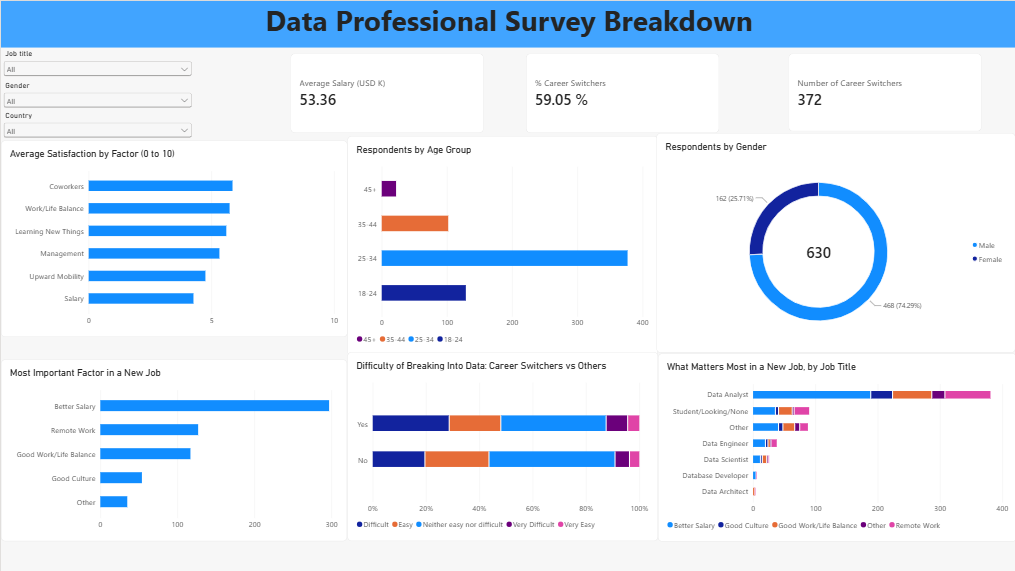

The dashboard page shown, as its layout file describes it:
{"tool":"powerbi","page":{"name":"Page 2","canvas":[1920,1080],"ordinal":1},"visuals":[{"type":"slicer","fields":{"Values":["Data Professional Survey.Q1 - Which Title Best Fits your Current Role?.1"]},"box":[0,90.7,365,62],"z":0},{"type":"slicer","fields":{"Values":["Data Professional Survey.Q11 - Which Country do you live in?.1"]},"box":[0,207.6,365,62],"z":1},{"type":"slicer","fields":{"Values":["Data Professional Survey.Q9 - Male/Female?"]},"box":[0,150.3,365,62],"z":2},{"type":"cardVisual","fields":{"Data":["Avg(Data Professional Survey.Average of salary)"]},"box":[546.4,97.8,365,150],"z":3},{"type":"cardVisual","fields":{"Data":["Data Professional Survey.Career Switchers"]},"box":[992.5,97.8,365,150],"z":5},{"type":"cardVisual","fields":{"Data":["Data Professional Survey.Career Switchers Count"]},"box":[1488.8,100.2,365,147.9],"z":6},{"type":"clusteredBarChart","title":"Average Satisfaction by Factor (0 to 10)","fields":{"Category":["type Satisfaction.Factor"],"Y":["Avg(type Satisfaction.Score)"]},"box":[0,263.6,654.8,371.3],"z":7},{"type":"barChart","title":" Respondents by Age Group","fields":{"Category":["Data Professional Survey.Age Group"],"Series":["Data Professional Survey.Age Group"],"Y":["CountNonNull(Data Professional Survey.Unique ID)"]},"box":[653.7,255.3,586.9,415.1],"z":8},{"type":"donutChart","title":"Respondents by Gender","fields":{"Category":["Data Professional Survey.Q9 - Male/Female?"],"Y":["CountNonNull(Data Professional Survey.Unique ID)"]},"box":[1240,250.5,680,415.1],"z":9},{"type":"barChart","title":"Most Important Factor in a New Job","fields":{"Category":["Data Professional Survey.Q8 - If you were to look for a new job today, what would be the most important t"],"Y":["CountNonNull(Data Professional Survey.Unique ID)"]},"box":[0,677.6,653.7,343.6],"z":10},{"type":"textbox","box":[0,0,1920.7,88.3],"z":11},{"type":"hundredPercentStackedBarChart","title":"Difficulty of Breaking Into Data: Career Switchers vs Others","fields":{"Category":["Data Professional Survey.Q2 - Did you switch careers into Data?"],"Series":["Data Professional Survey.Q7 - How difficult was it for you to break into Data?"],"Y":["CountNonNull(Data Professional Survey.Unique ID)"]},"box":[654.8,663.3,586.8,357.2],"z":12},{"type":"barChart","title":"What Matters Most in a New Job, by Job Title","fields":{"Category":["Data Professional Survey.Q1 - Which Title Best Fits your Current Role?.1"],"Series":["Data Professional Survey.Q8 - If you were to look for a new job today, what would be the most important t"],"Y":["CountNonNull(Data Professional Survey.Q11 - Which Country do you live in?.1)"]},"box":[1240.7,665.7,680,355.5],"z":13}]}

Visuals, with their boxes in screenshot pixels (x1, y1, x2, y2), scaled from the page's 1920x1080 canvas onto the 1015x571 screenshot:
slicer - Data Professional Survey.Q1 - Which Title Best Fits your Current Role?.1: x1=0, y1=48, x2=193, y2=81
slicer - Data Professional Survey.Q11 - Which Country do you live in?.1: x1=0, y1=110, x2=193, y2=143
slicer - Data Professional Survey.Q9 - Male/Female?: x1=0, y1=79, x2=193, y2=112
cardVisual - Avg(Data Professional Survey.Average of salary): x1=289, y1=52, x2=482, y2=131
cardVisual - Data Professional Survey.Career Switchers: x1=525, y1=52, x2=718, y2=131
cardVisual - Data Professional Survey.Career Switchers Count: x1=787, y1=53, x2=980, y2=131
"Average Satisfaction by Factor (0 to 10)" clusteredBarChart: x1=0, y1=139, x2=346, y2=336
" Respondents by Age Group" barChart: x1=346, y1=135, x2=656, y2=354
"Respondents by Gender" donutChart: x1=656, y1=132, x2=1014, y2=352
"Most Important Factor in a New Job" barChart: x1=0, y1=358, x2=346, y2=540
textbox: x1=0, y1=0, x2=1014, y2=47
"Difficulty of Breaking Into Data: Career Switchers vs Others" hundredPercentStackedBarChart: x1=346, y1=351, x2=656, y2=540
"What Matters Most in a New Job, by Job Title" barChart: x1=656, y1=352, x2=1014, y2=540
